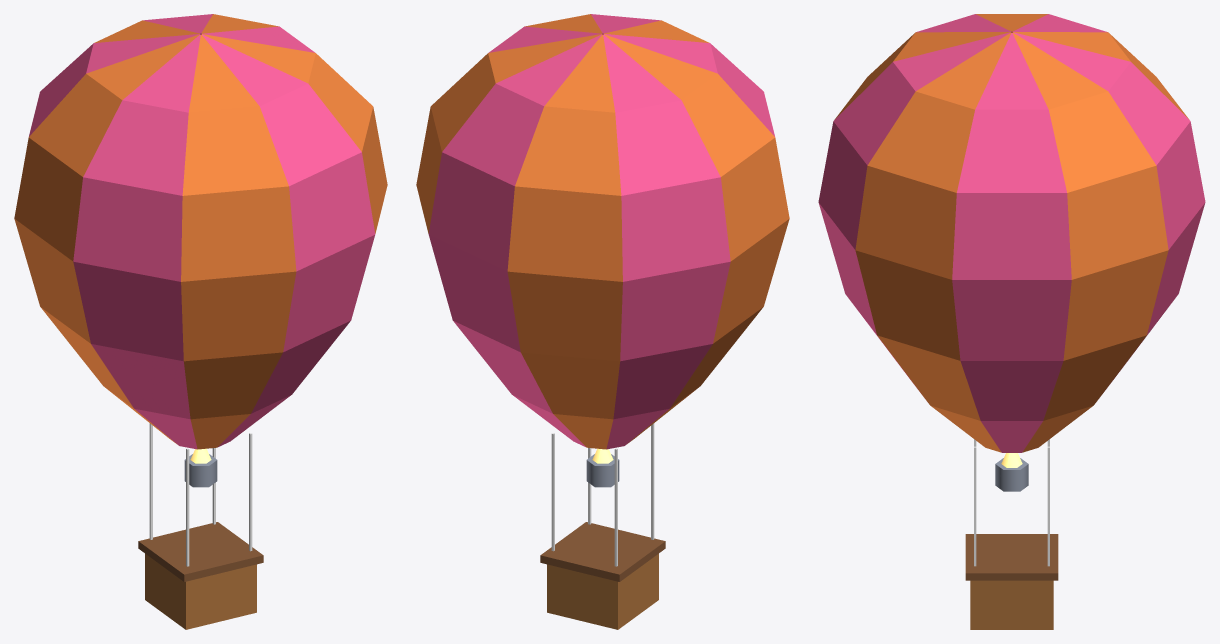
File: balao.glb
The picture shows the model from 3 angles, left to right: view 1: azimuth 30°, elevation 25°; view 2: azimuth 150°, elevation 25°; view 3: azimuth 270°, elevation 25°; orthographic projection.
Parts seen in each view (by area): view 1: balao; view 2: balao; view 3: balao.
Part boxes in pixels (x1,y1,x2,y2): balao: (14,14,387,629); balao: (416,14,789,629); balao: (818,14,1205,629).
Size of the model in its own units: 6.18 by 10.75 by 6.5.
